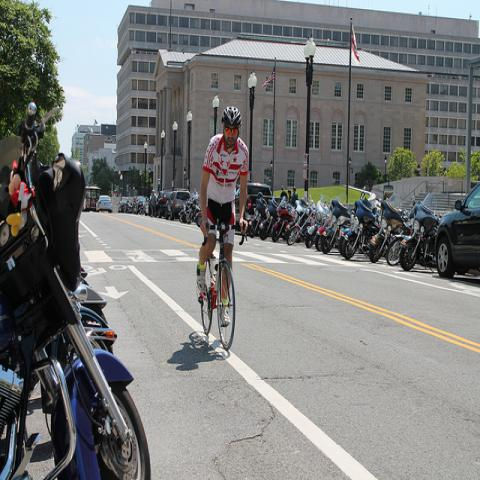car: (434, 177, 480, 278), (95, 196, 112, 213), (135, 196, 145, 208)
motorcycle: (0, 100, 151, 475), (180, 189, 382, 256), (400, 192, 444, 272), (369, 192, 404, 263), (319, 194, 351, 255), (304, 193, 331, 250), (286, 195, 316, 246), (386, 221, 413, 267), (282, 198, 310, 240), (272, 197, 294, 242), (258, 199, 279, 241), (315, 203, 333, 251), (248, 198, 268, 238), (196, 210, 202, 227)
